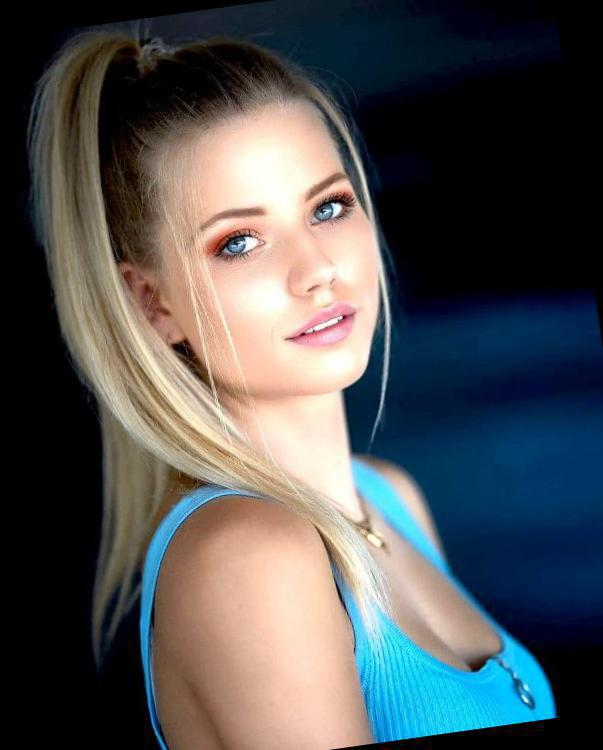Sober: (191, 117, 388, 388)
